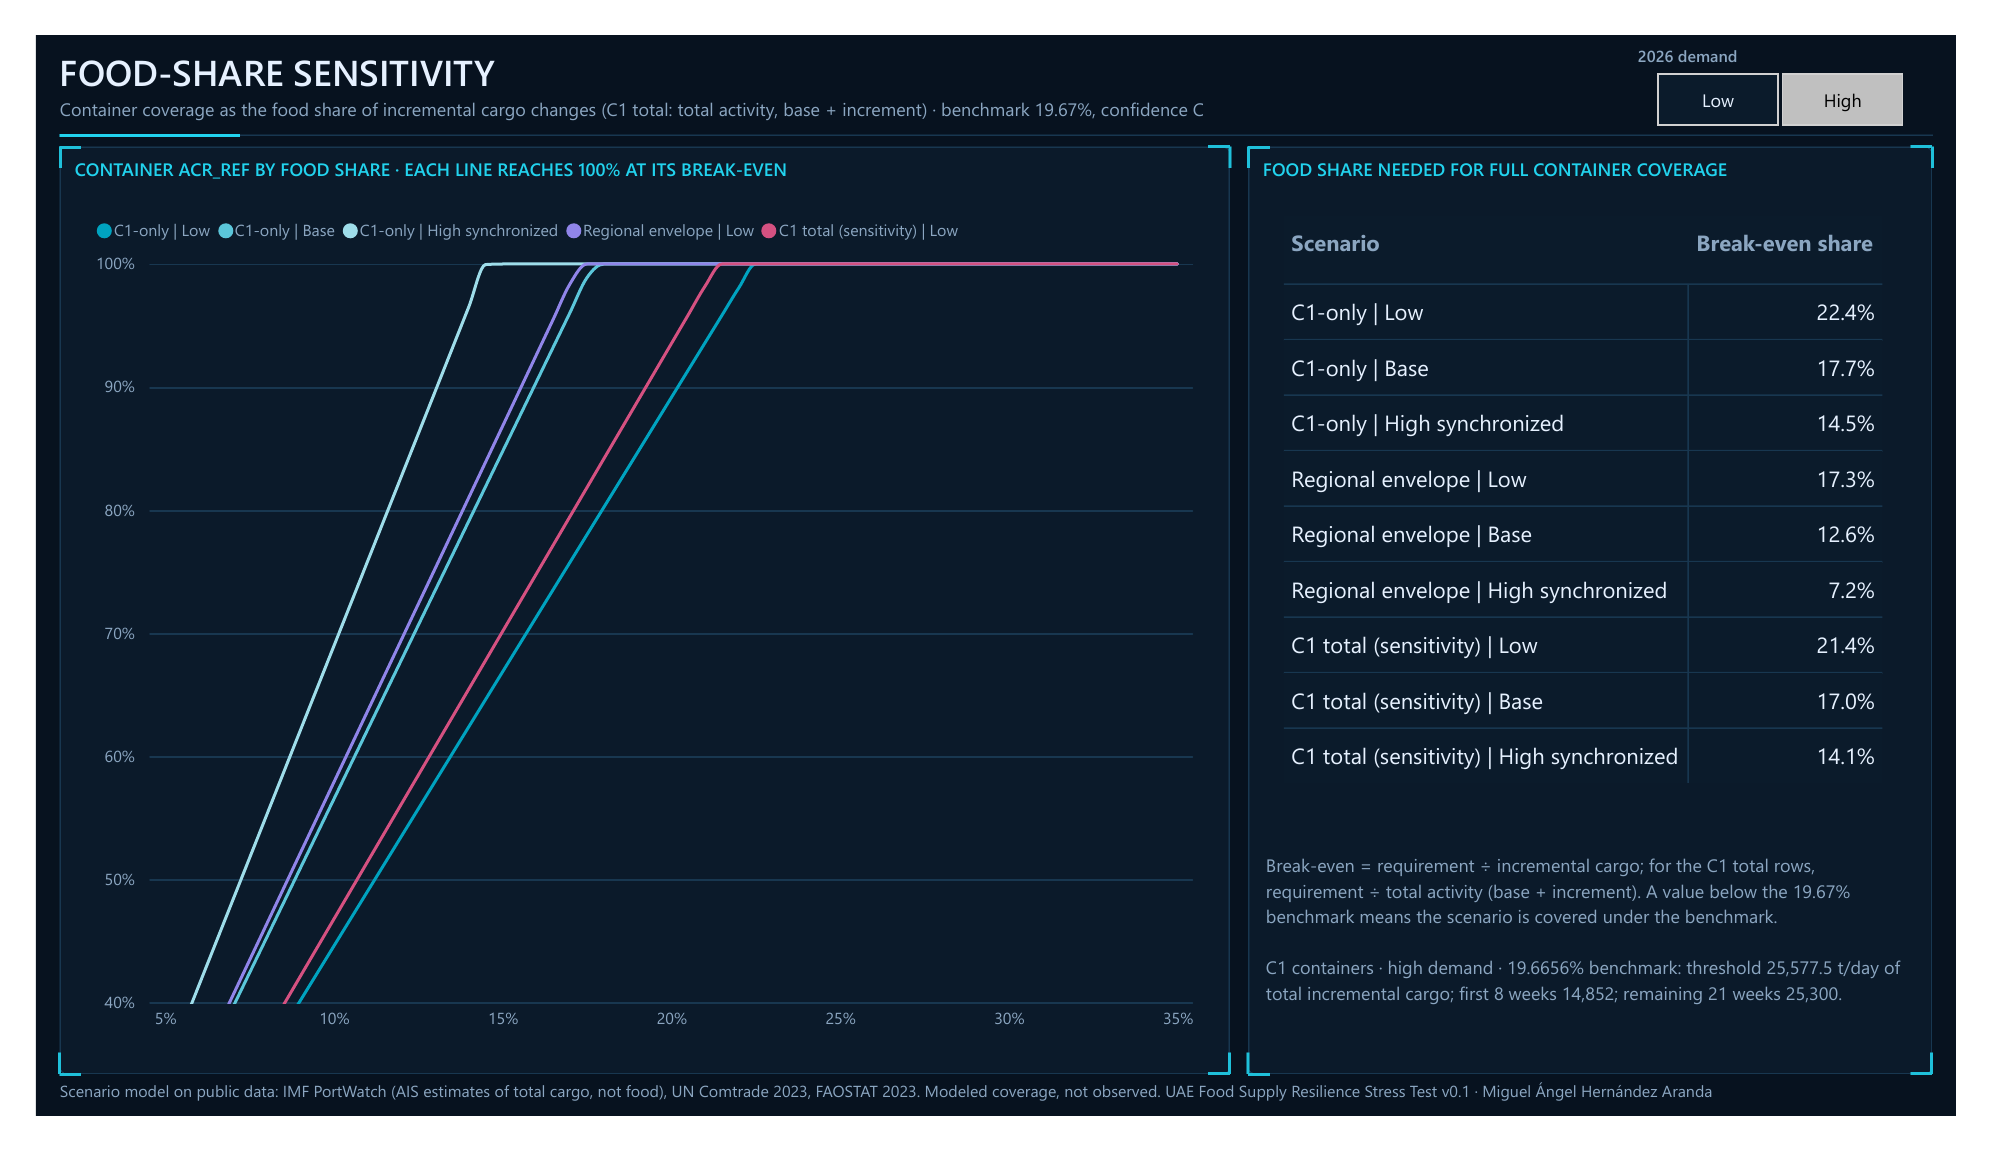

This screenshot's page, from the dashboard's own definition file:
{"tool":"powerbi","page":{"name":"Food-share sensitivity","canvas":[1280,720],"ordinal":3},"visuals":[{"type":"textbox","box":[16,8,840,34],"z":0},{"type":"textbox","box":[16,40,840,22],"z":1000},{"type":"textbox","box":[16,694,1248,24],"z":2000},{"type":"slicer","fields":{"Values":["demand_levels.demand"]},"box":[1060,6,204,56],"z":3000},{"type":"textbox","box":[26,80,760,26],"z":4000},{"type":"lineChart","fields":{"Category":["food_share_sensitivity.food_share"],"Series":["scenarios.scenario"],"Y":["_Measures.C_ref container (sensitivity)"]},"box":[24,102,764,582],"z":5000},{"type":"textbox","box":[818,80,436,26],"z":6000},{"type":"pivotTable","fields":{"Rows":["scenarios.scenario"],"Values":["_Measures.Break-even food share container"]},"box":[816,106,440,420],"z":7000},{"type":"textbox","box":[820,544,432,140],"z":8000}]}

Visuals, with their boxes in screenshot pixels (x1, y1, x2, y2), scaled from the page's 1280x720 canvas onto the 1992x1152 screenshot:
textbox: x1=25 y1=13 x2=1332 y2=67
textbox: x1=25 y1=64 x2=1332 y2=99
textbox: x1=25 y1=1110 x2=1967 y2=1149
slicer - demand_levels.demand: x1=1650 y1=10 x2=1967 y2=99
textbox: x1=40 y1=128 x2=1223 y2=170
lineChart - food_share_sensitivity.food_share x scenarios.scenario: x1=37 y1=163 x2=1226 y2=1094
textbox: x1=1273 y1=128 x2=1952 y2=170
pivotTable - scenarios.scenario x _Measures.Break-even food share container: x1=1270 y1=170 x2=1955 y2=842
textbox: x1=1276 y1=870 x2=1948 y2=1094
